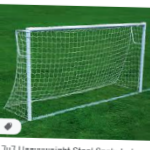goals: (8, 23, 150, 122)
